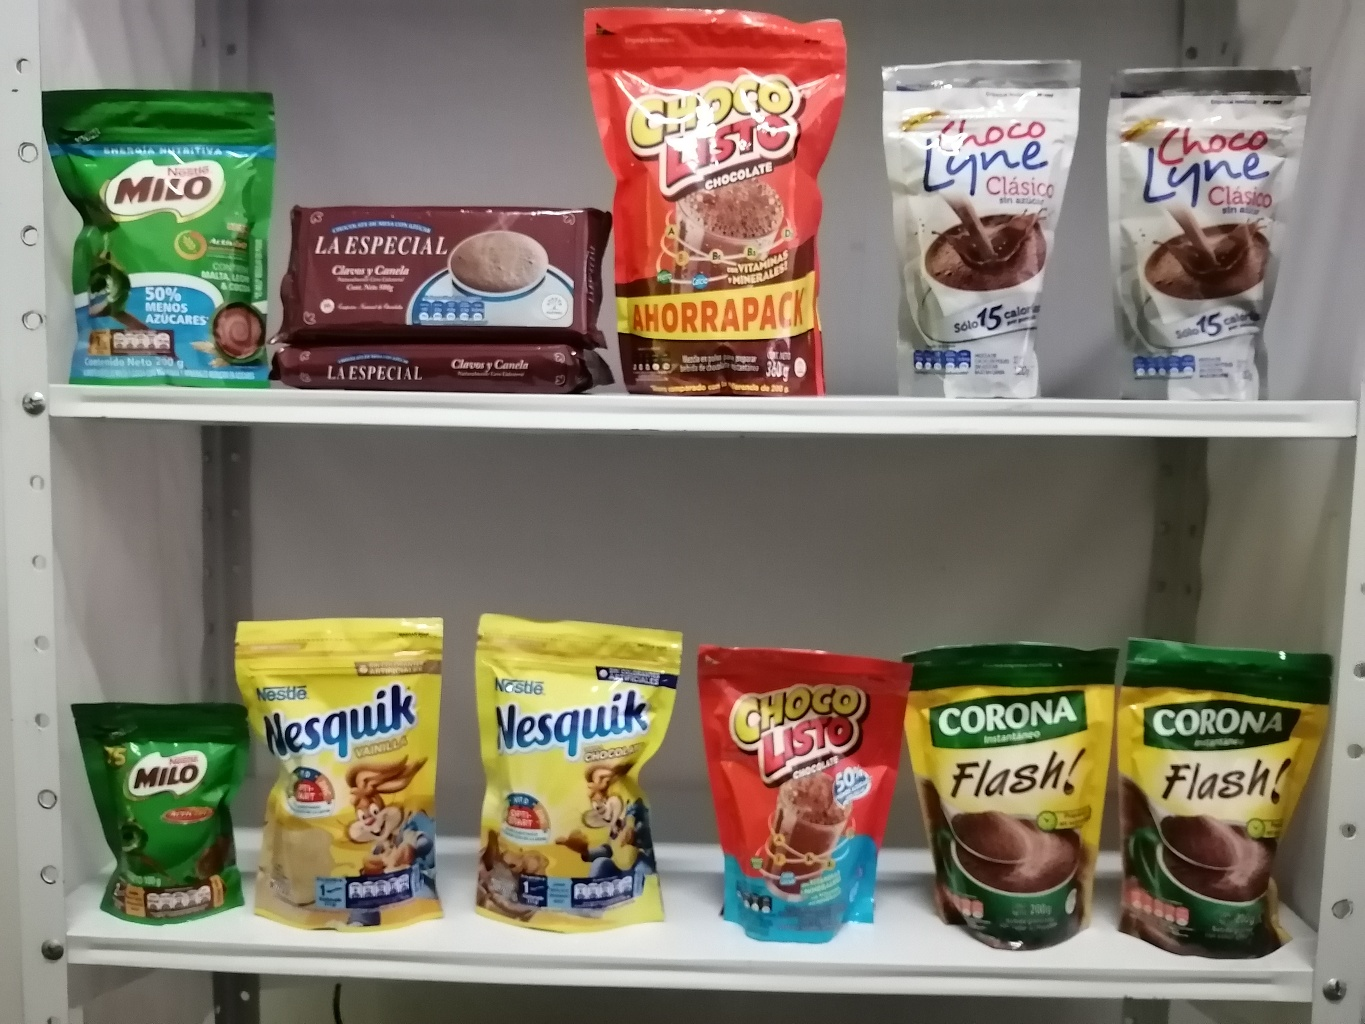COL0170103DYP36000: (579, 0, 866, 389)
COL0170104DYP20000: (702, 635, 908, 943)
COL0170203DYP10000: (72, 696, 254, 921)
COL0170205DYP20000: (43, 72, 281, 389)
COL0170303DYP20000: (463, 607, 687, 942)
COL0170306DYP20000: (236, 612, 458, 935)
